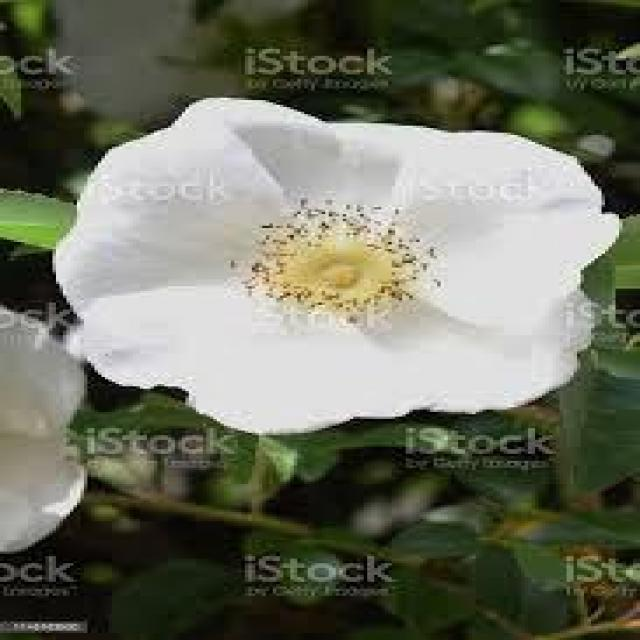organic waste: (75, 100, 614, 417)
